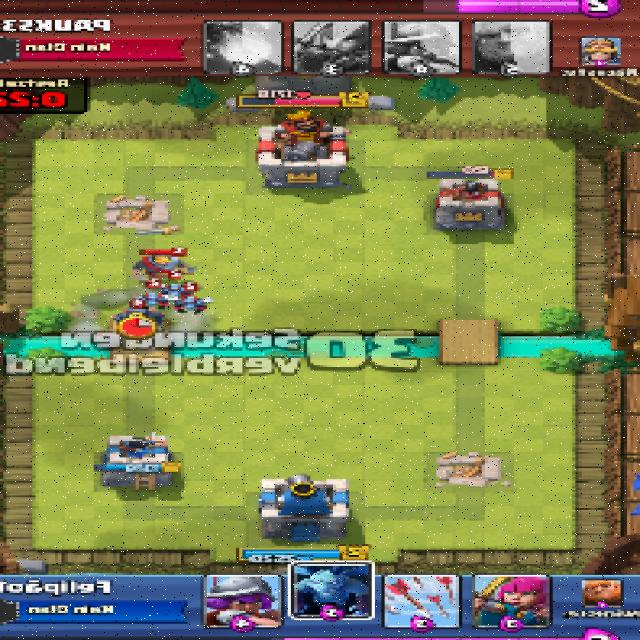Enemy-Knight: (129, 252, 197, 280)
Enemy-MiniPEKKA: (113, 307, 165, 328)
Enemy-Minion: (178, 295, 212, 314), (134, 292, 168, 309), (157, 285, 195, 298)
